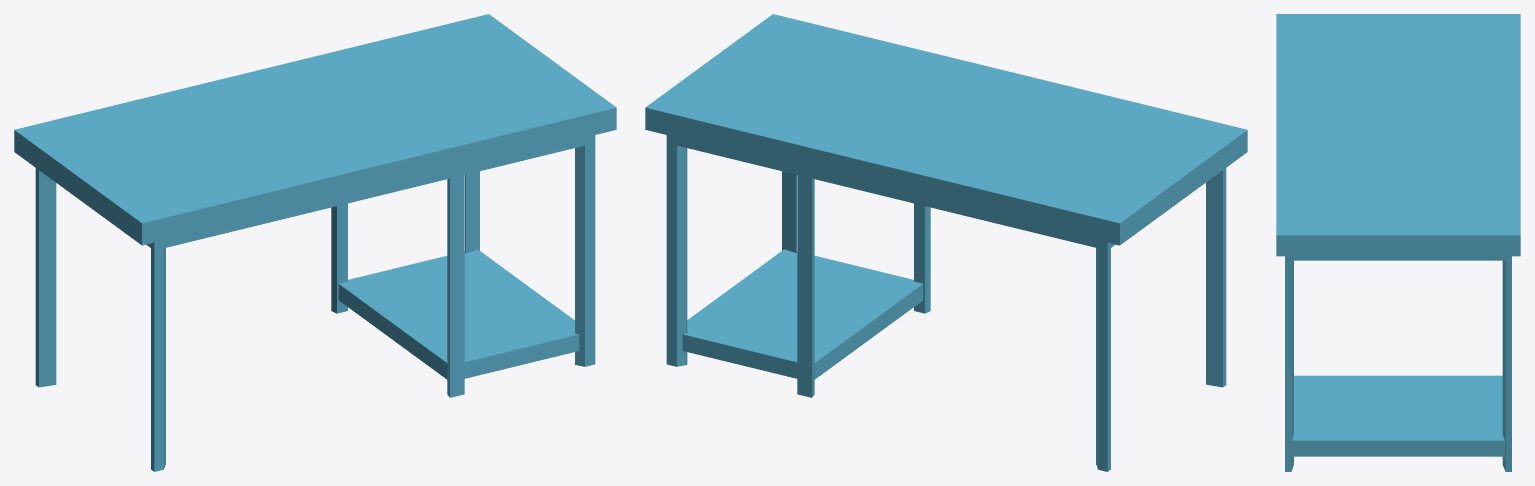
File: table.glb
3 views of the same model, side by side, from view 1: azimuth 30°, elevation 25°; view 2: azimuth 150°, elevation 25°; view 3: azimuth 270°, elevation 25° (orthographic). The views are drawn at different scales.
Parts seen in each view (by area): view 1: Table, TableFoot; view 2: Table, TableFoot; view 3: Table, TableFoot.
Part boxes in pixels (<box>): Table: <box>14,14,616,471</box>; TableFoot: <box>338,249,579,379</box>; Table: <box>645,14,1247,471</box>; TableFoot: <box>682,249,923,379</box>; Table: <box>1276,14,1520,471</box>; TableFoot: <box>1292,375,1504,456</box>.
Bounding box in the file's own units: 1.5 × 0.7731 × 0.7.
Materials: 1 (1 with a texture image).
